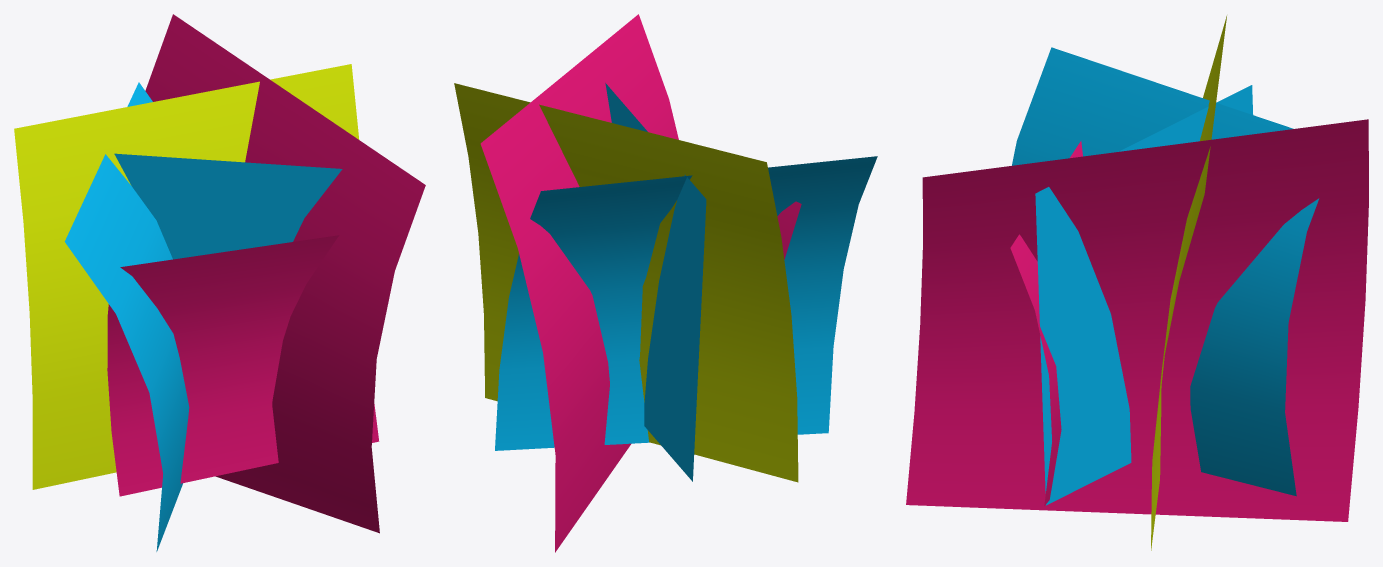
The model's file is RedGrassUnity.fbx.
The picture shows the model from 3 angles, left to right: view 1: azimuth 30°, elevation 25°; view 2: azimuth 150°, elevation 25°; view 3: azimuth 270°, elevation 25°; orthographic projection. The views are drawn at different scales.
Visible parts, largest first — view 1: Plane001; view 2: Plane001; view 3: Plane001.
Part boxes in pixels (box(x1,y1,x2,y2)): Plane001: box(14, 14, 425, 551); Plane001: box(454, 14, 877, 552); Plane001: box(906, 16, 1368, 550).
Bounding box in the file's own units: 37.66 × 40.74 × 39.07.
